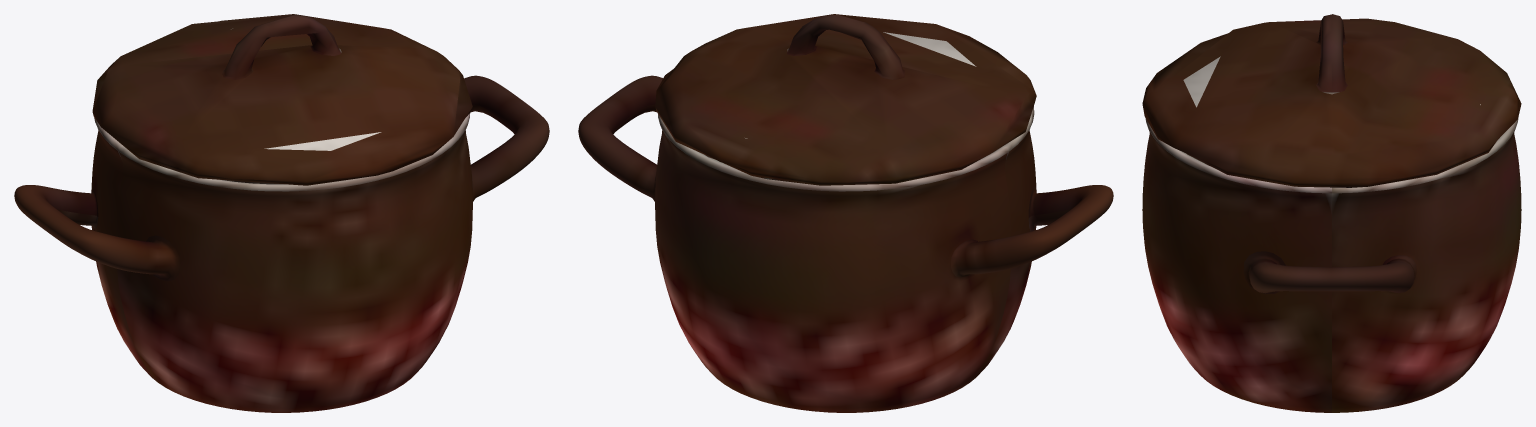
Rendered from pot-enamel-01.glb.
The picture shows the model from 3 angles, left to right: view 1: azimuth 30°, elevation 25°; view 2: azimuth 150°, elevation 25°; view 3: azimuth 270°, elevation 25°; orthographic projection.
Parts seen in each view (by area): view 1: pot_enamel_01_lid; view 2: pot_enamel_01_lid; view 3: pot_enamel_01_lid.
Boxes of the visible parts, x1=… form: pot_enamel_01_lid: x1=14, y1=14, x2=549, y2=412; pot_enamel_01_lid: x1=578, y1=14, x2=1113, y2=412; pot_enamel_01_lid: x1=1142, y1=14, x2=1521, y2=412.
Size of the model in its own units: 0.2629 by 0.178 by 0.1805.
1 material, 1 textured.
